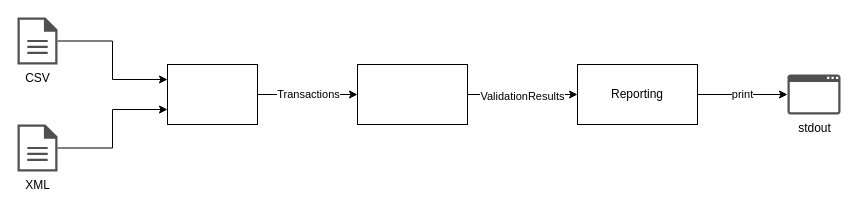
Some shapes in this 857 by 209 pixel diagram are drawn without their labels. The centre of each missing label's shape, as x and y in pixels:
"Parser" belongs at [212,94].
"Processor" belongs at [412,94].
